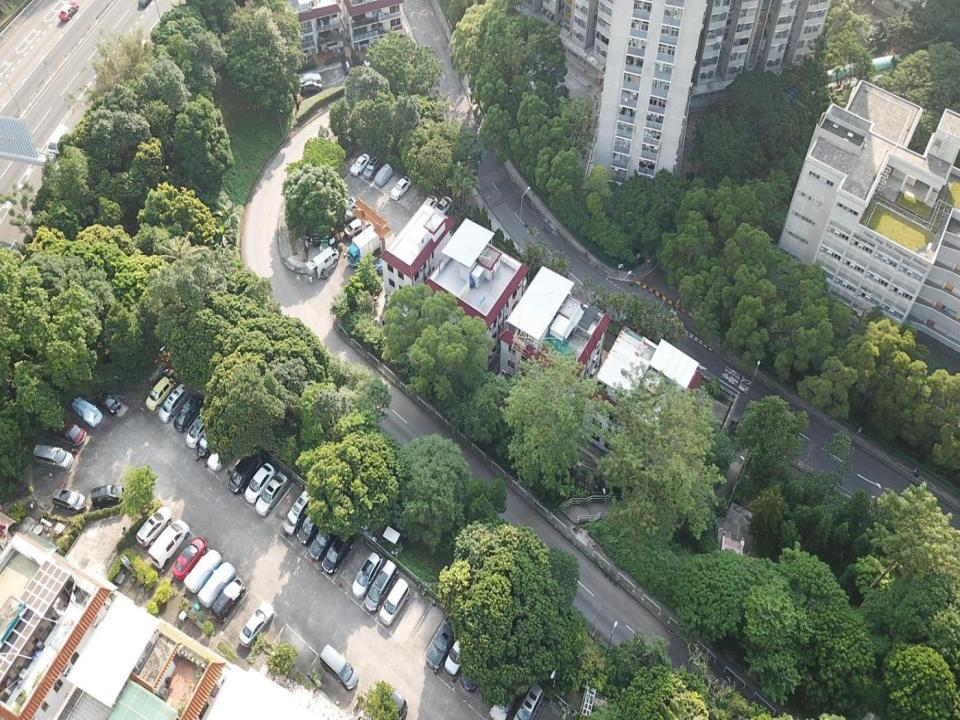car: (424, 613, 464, 671), (148, 519, 191, 569), (227, 442, 267, 494), (196, 561, 236, 609), (321, 522, 356, 576), (183, 547, 222, 594), (365, 558, 398, 612), (351, 549, 385, 600), (238, 601, 274, 649), (254, 470, 290, 517), (171, 536, 208, 581), (135, 505, 172, 549), (211, 578, 246, 624), (379, 577, 410, 627), (282, 487, 314, 535), (308, 515, 340, 561), (444, 630, 475, 676), (243, 460, 276, 503), (461, 648, 493, 692), (185, 406, 217, 448), (195, 418, 227, 458), (296, 505, 327, 546), (490, 677, 520, 719), (48, 415, 87, 447), (158, 383, 189, 423), (512, 682, 545, 719), (174, 393, 206, 431), (374, 684, 408, 719), (70, 395, 104, 428), (206, 435, 236, 471), (144, 376, 174, 411), (90, 483, 125, 510), (52, 487, 87, 514), (95, 388, 121, 415), (343, 218, 370, 240), (390, 175, 412, 201), (430, 196, 452, 221), (417, 195, 439, 219), (336, 207, 361, 228), (350, 153, 371, 177), (333, 196, 358, 216), (374, 162, 394, 187), (363, 155, 382, 180), (58, 1, 80, 22), (296, 72, 322, 88), (373, 255, 392, 276), (300, 79, 322, 96)
truck: (346, 224, 386, 268)
van: (319, 643, 359, 691), (32, 443, 74, 472), (305, 246, 340, 275), (47, 123, 70, 158), (341, 56, 352, 75)
